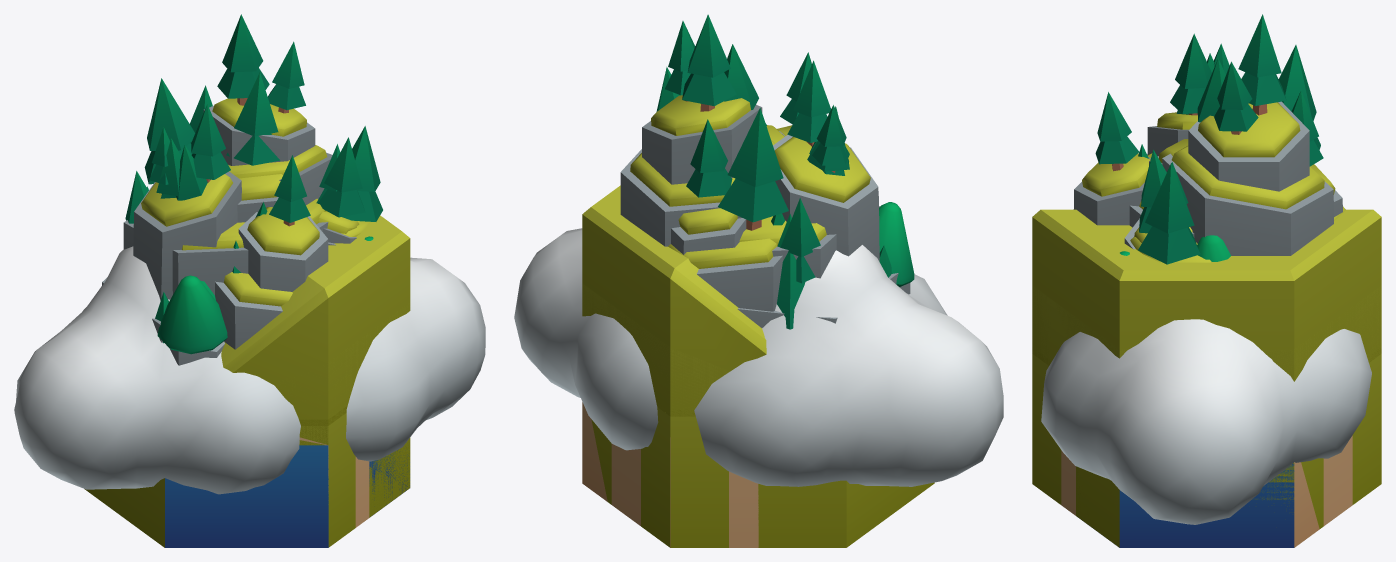
File: hexcore.glb
The picture shows the model from 3 angles, left to right: view 1: azimuth 30°, elevation 25°; view 2: azimuth 150°, elevation 25°; view 3: azimuth 270°, elevation 25°; orthographic projection. The views are drawn at different scales.
Parts seen in each view (by area): view 1: cloud_big, hex_grass_sloped_high, hex_coast_D, mountain_C_grass_trees, mountain_B_grass_trees, mountain_A_grass_trees, mountain_C_grass, mountain_C, hex_road_D, trees_B_large, hex_coast_A, mountain_B_grass (+6 smaller); view 2: cloud_big, hex_grass_sloped_high, mountain_C_grass_trees, mountain_B_grass_trees, hex_road_C, mountain_A_grass_trees, hex_road_B, hex_coast_E, mountain_C_grass, mountain_C, mountain_B_grass, hex_coast_A (+7 smaller); view 3: cloud_big, hex_grass_sloped_high, mountain_B_grass_trees, mountain_C_grass_trees, hex_coast_D, mountain_B_grass, mountain_A_grass_trees, hex_road_B, hex_grass_sloped_low, hex_road_D, mountain_C_grass, mountain_B (+4 smaller).
Boxes of the visible parts, box(x1,y1,x2,y2) form: cloud_big: box(14, 246, 485, 494); hex_grass_sloped_high: box(221, 215, 410, 517); hex_coast_D: box(165, 445, 409, 547); mountain_C_grass_trees: box(134, 85, 356, 357); mountain_B_grass_trees: box(102, 14, 369, 341); mountain_A_grass_trees: box(144, 72, 382, 288); mountain_C_grass: box(143, 175, 359, 365); mountain_C: box(133, 181, 356, 365); hex_road_D: box(328, 413, 369, 547); trees_B_large: box(157, 236, 373, 354); hex_coast_A: box(84, 437, 328, 547); mountain_B_grass: box(212, 98, 370, 245); cloud_big: box(514, 228, 1003, 486); hex_grass_sloped_high: box(582, 185, 766, 416); mountain_C_grass_trees: box(668, 52, 879, 308); mountain_B_grass_trees: box(630, 14, 899, 327); hex_road_C: box(670, 416, 758, 547); mountain_A_grass_trees: box(656, 44, 849, 260); hex_road_B: box(591, 407, 670, 547); hex_coast_E: box(758, 480, 845, 547); mountain_C_grass: box(679, 125, 866, 310); mountain_C: box(683, 179, 910, 311); mountain_B_grass: box(630, 98, 784, 319); hex_coast_A: box(670, 417, 934, 547); cloud_big: box(1041, 319, 1371, 524); hex_grass_sloped_high: box(1032, 209, 1381, 524); mountain_B_grass_trees: box(1131, 14, 1333, 262); mountain_C_grass_trees: box(1087, 33, 1343, 248); hex_coast_D: box(1078, 464, 1294, 547); mountain_B_grass: box(1130, 102, 1329, 262); mountain_A_grass_trees: box(1129, 45, 1320, 264); hex_road_B: box(1302, 354, 1381, 528); hex_grass_sloped_low: box(1032, 286, 1381, 547); hex_road_D: box(1032, 354, 1309, 515); mountain_C_grass: box(1082, 112, 1345, 242); mountain_B: box(1188, 101, 1309, 255).
Bounding box in the file's own units: 3.61 × 3.5 × 2.31.
Materials: 1 (1 with a texture image).
